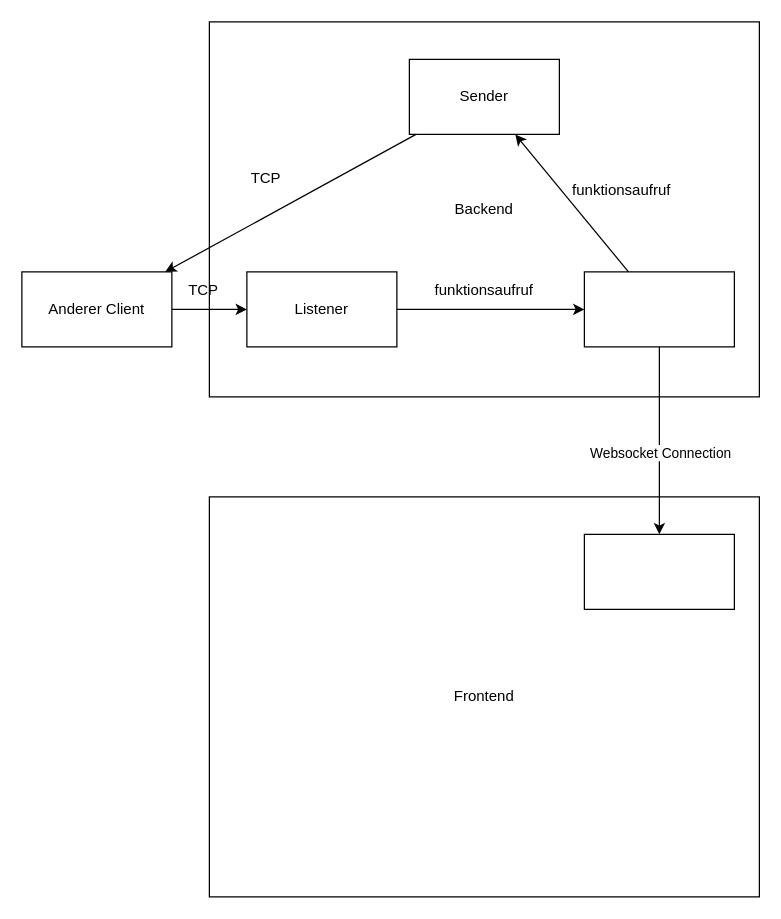
Some shapes in this 781 by 919 pixel diagram are drawn without their labels. The shapes that lost their labels are listed below. From the top down, each one's centre as x and y in pixels, then its label:
At point (658, 309): "FrontendController".
At point (658, 571): "Vuex/Store".
